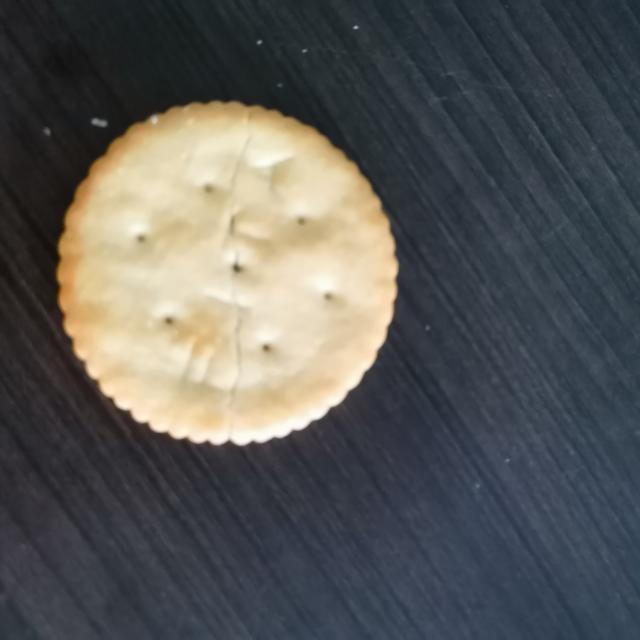Fracture: (211, 100, 265, 445)
